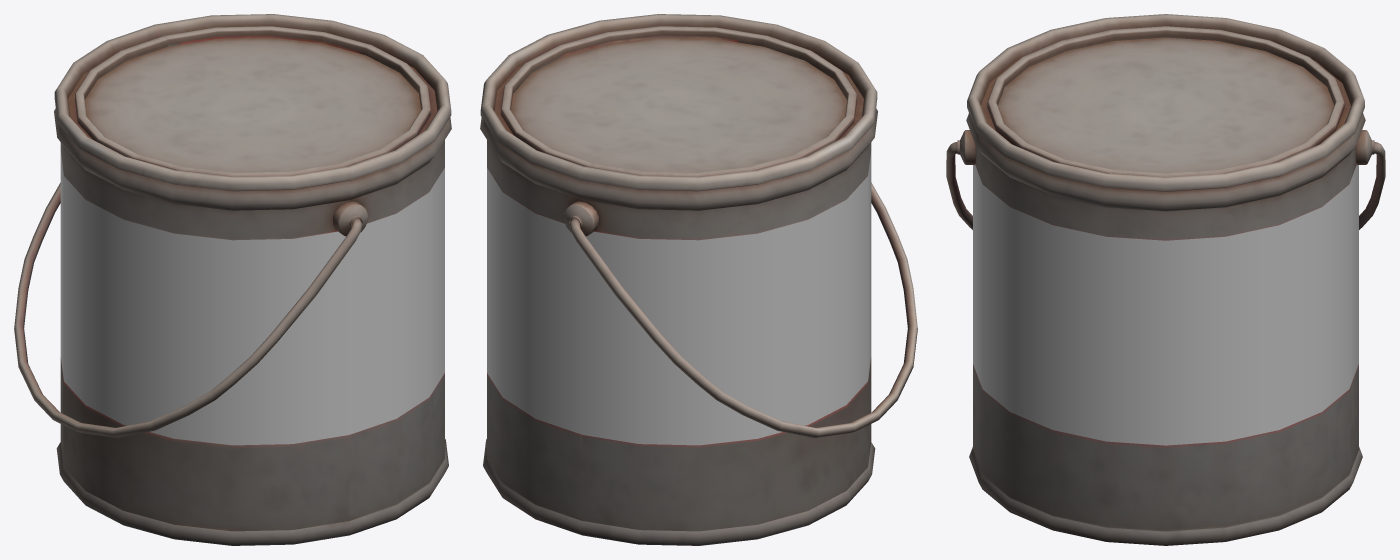
File: SM_PaintCan.fbx
The picture shows the model from 3 angles, left to right: view 1: azimuth 30°, elevation 25°; view 2: azimuth 150°, elevation 25°; view 3: azimuth 270°, elevation 25°; orthographic projection.
Visible parts, largest first — view 1: SM_PaintCan_LOD0; view 2: SM_PaintCan_LOD0; view 3: SM_PaintCan_LOD0.
Part boxes in pixels (bbox=[...]): SM_PaintCan_LOD0: bbox=[14, 14, 451, 545]; SM_PaintCan_LOD0: bbox=[480, 14, 917, 545]; SM_PaintCan_LOD0: bbox=[946, 14, 1385, 545].
Bounding box in the file's own units: 20.83 × 21.27 × 19.64.
Materials: 2 (1 with a texture image).
